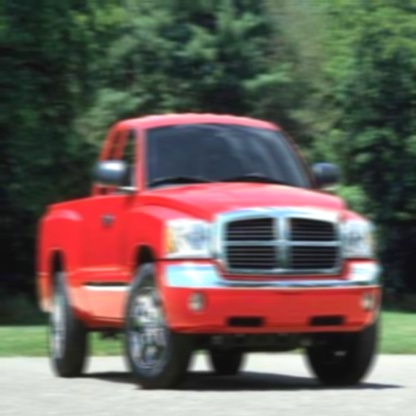Vehicle: (36, 109, 382, 393)
